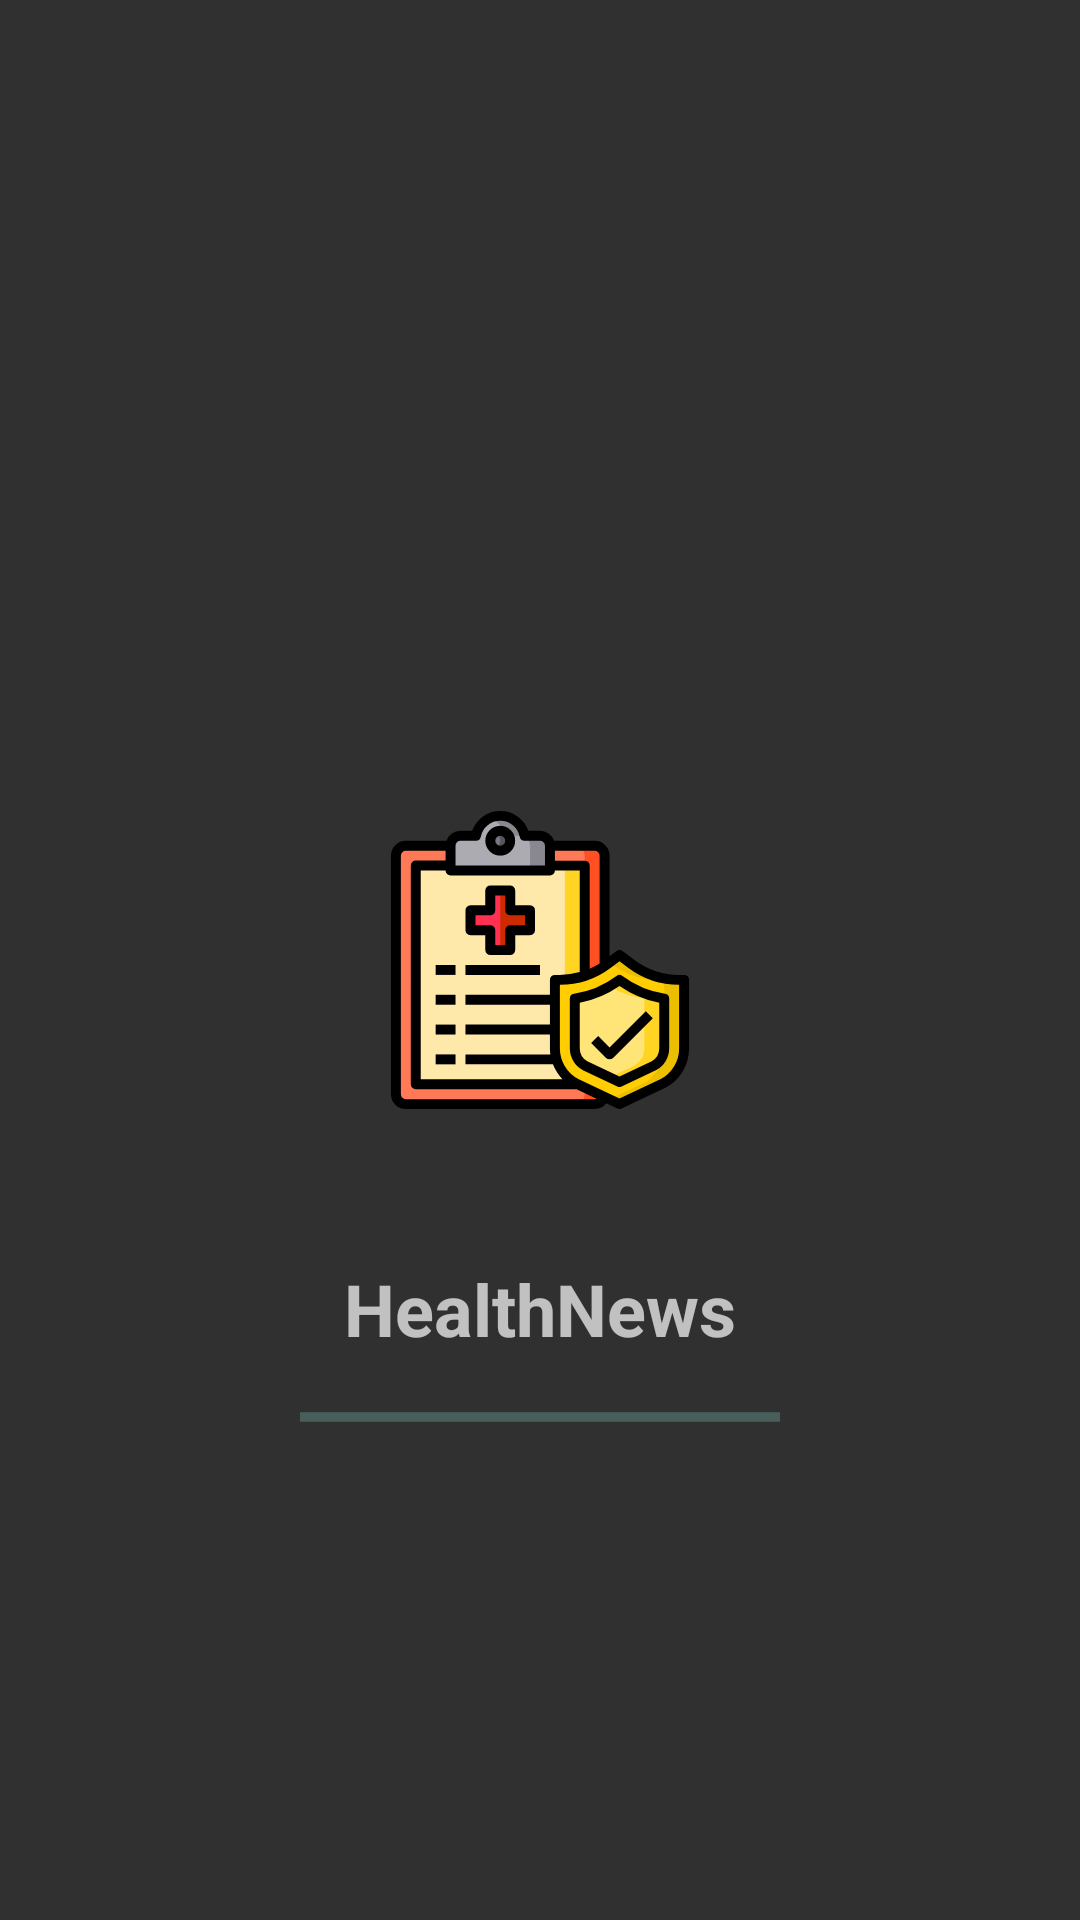

Icon bounding boxes for this 1080 x 1920 phone screenshot, format (x1, y1, x2, y2):
image SplashScreen: (391, 811, 689, 1109)
